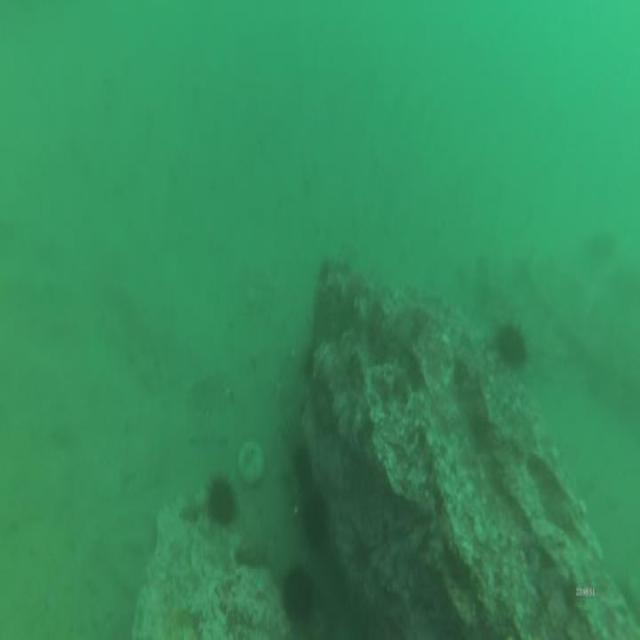echinus: (277, 564, 319, 631), (203, 473, 240, 534), (492, 314, 529, 372), (299, 490, 329, 551), (292, 443, 316, 496)
